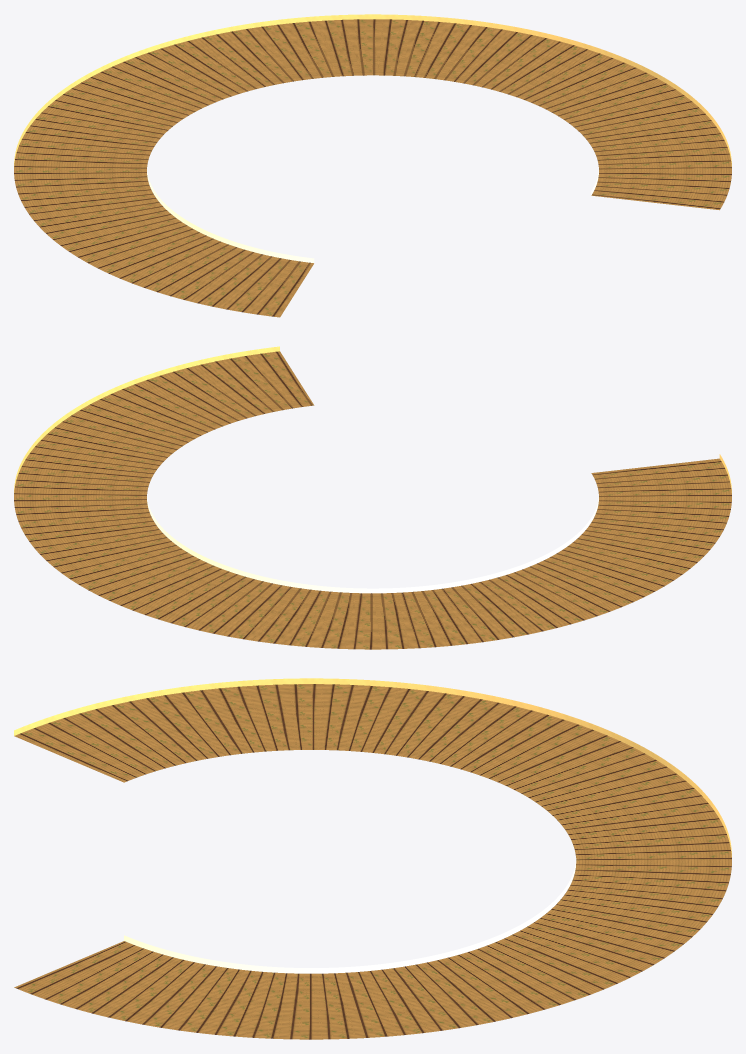
The model's file is mwm_roof.glb.
3 renders of one model, top to bottom at view 1: azimuth 30°, elevation 25°; view 2: azimuth 150°, elevation 25°; view 3: azimuth 270°, elevation 25°, orthographic. The views are drawn at different scales.
Visible parts, largest first — view 1: mwx_roof; view 2: mwx_roof; view 3: mwx_roof.
Boxes of the visible parts, bbox=[...] form: mwx_roof: bbox=[14, 14, 731, 317]; mwx_roof: bbox=[14, 346, 731, 649]; mwx_roof: bbox=[14, 678, 731, 1039].
Bounding box in the file's own units: 216 × 1.6 × 184.
Materials: 4 (3 with a texture image).
